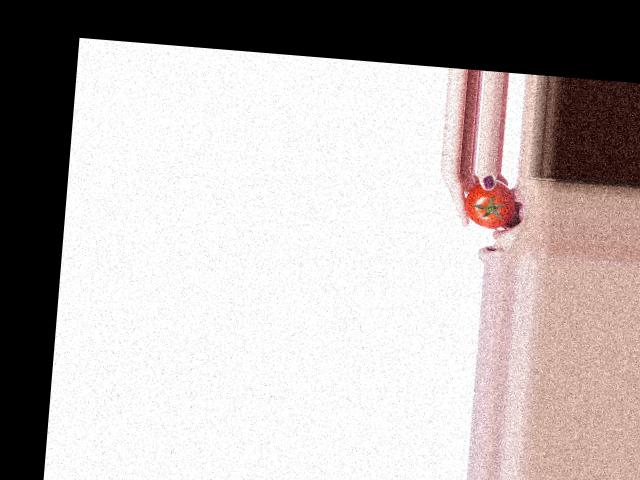tomato: (462, 177, 515, 230)
